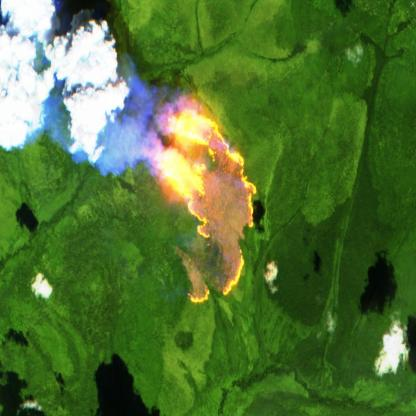fire: (143, 87, 259, 308)
